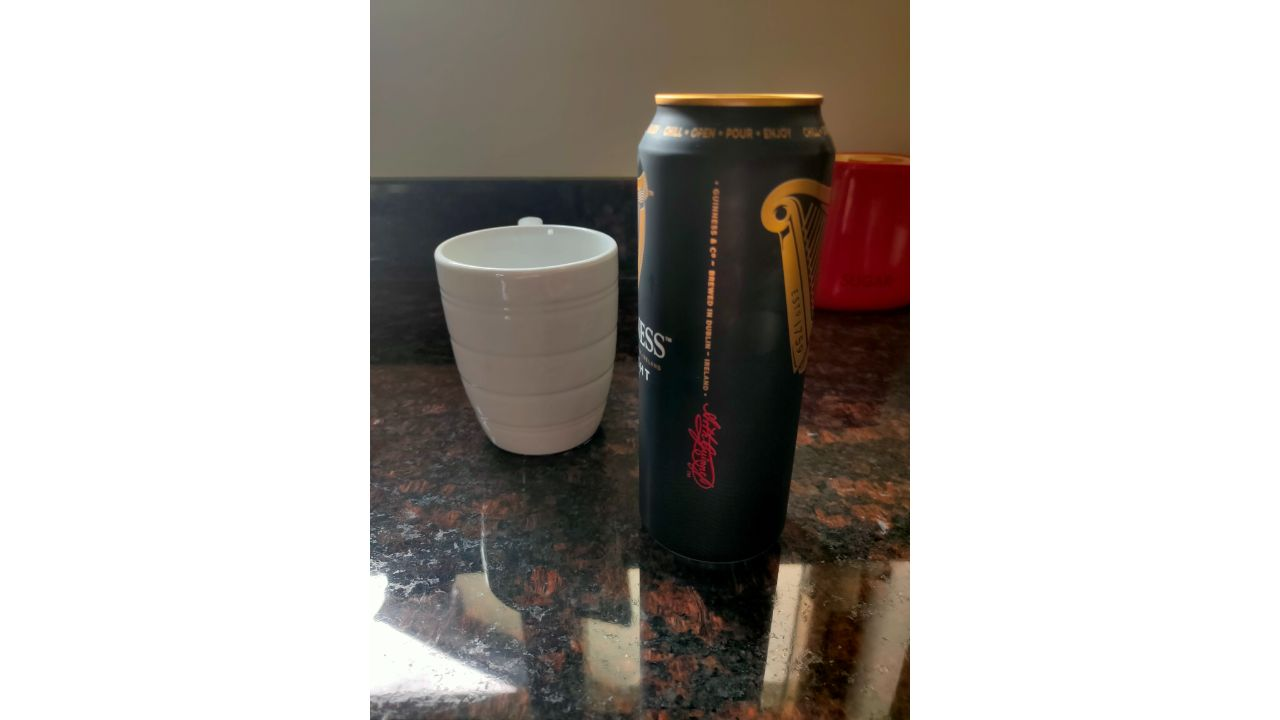Can: (637, 92, 842, 572)
